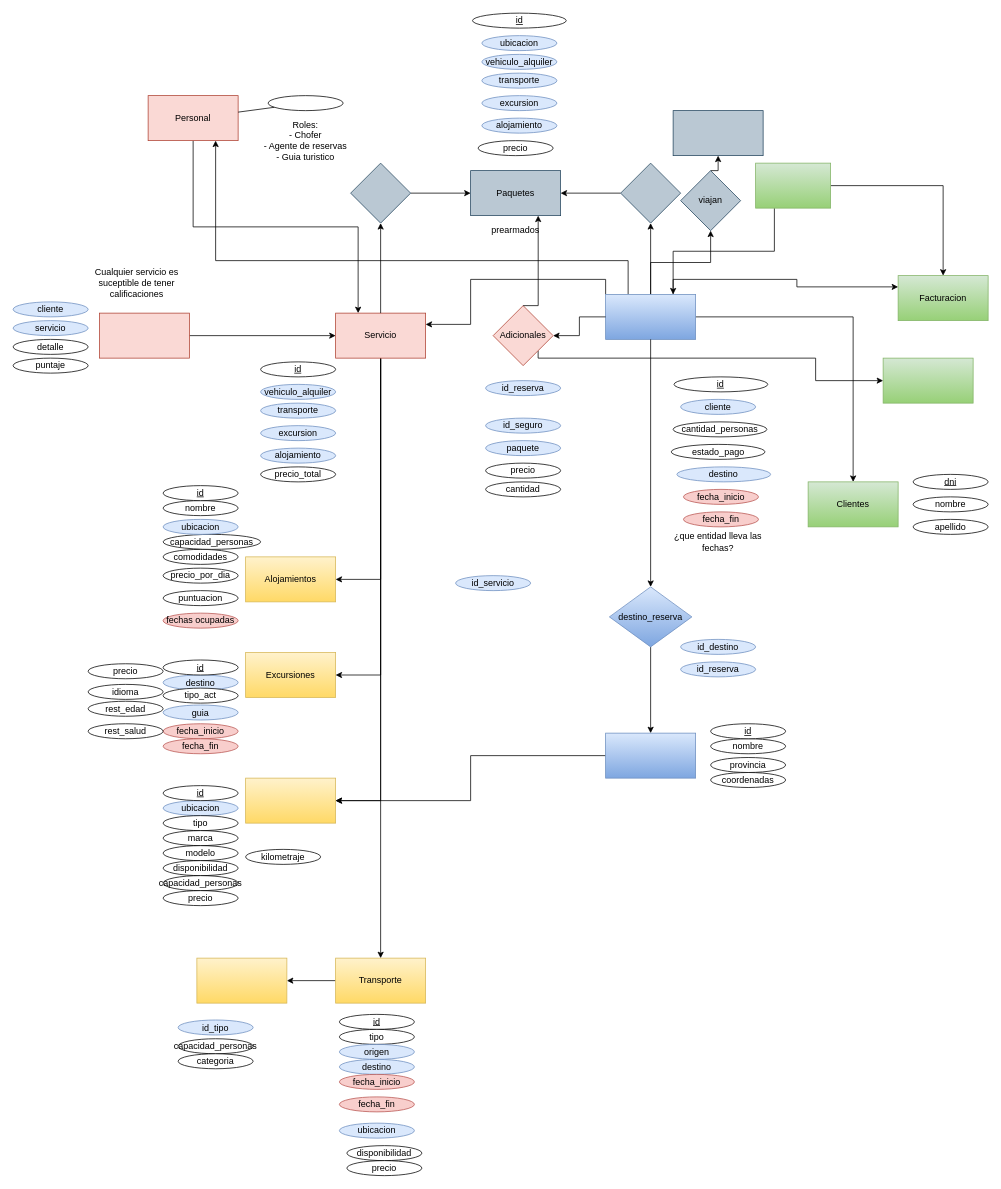
The diagram is 1001 pixels wide and 1189 high, and some of its shapes have lost their labels. Here are the shapes that lost their labels. From the top down, the box of each, then its label:
(267, 95, 343, 111): rol
(672, 110, 763, 156): Pasajeros
(350, 162, 411, 223): item_paquete
(620, 162, 681, 223): contrata
(755, 162, 831, 208): Reembolsos
(99, 312, 189, 358): Calificaciones
(605, 294, 696, 339): Reservas
(882, 357, 973, 403): Seguros de viaje
(605, 732, 696, 778): Destinos
(245, 777, 336, 823): Vehiculos de alquiler
(196, 957, 287, 1003): Tipo_transporte
